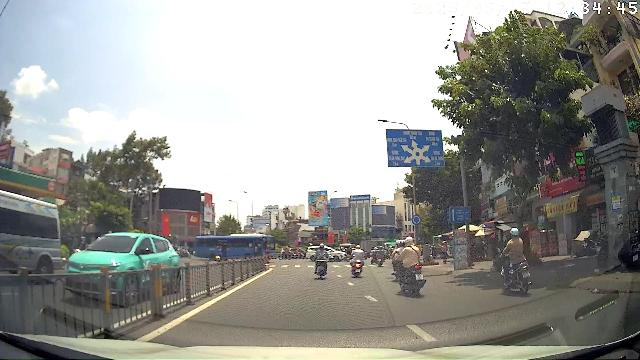303-noi-giao-nhau-chay-theo-vong-xuyen: (411, 215, 422, 225)
